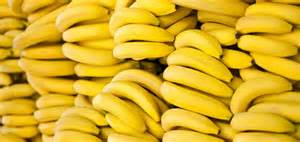banana: (157, 80, 233, 121), (230, 75, 294, 116), (90, 92, 150, 133), (54, 5, 112, 34), (59, 41, 123, 67), (111, 40, 177, 62), (234, 15, 296, 35)
